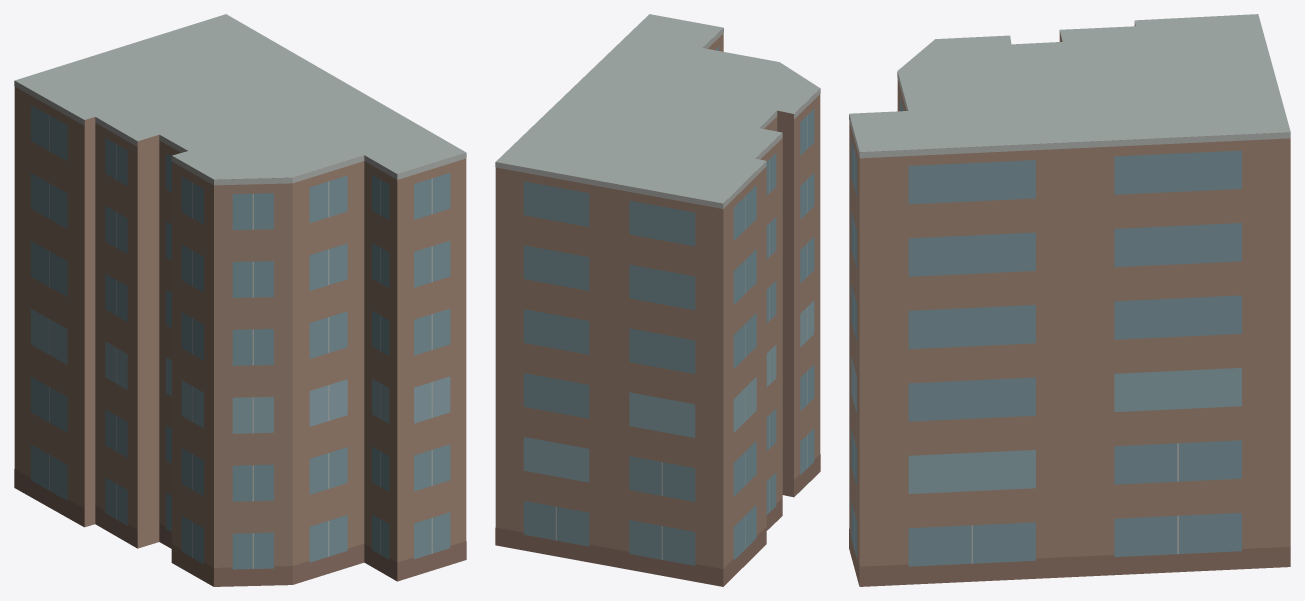
File: survey-upis-32696526.glb
The picture shows the model from 3 angles, left to right: view 1: azimuth 30°, elevation 25°; view 2: azimuth 150°, elevation 25°; view 3: azimuth 270°, elevation 25°; orthographic projection. The views are drawn at different scales.
Parts seen in each view (by area): view 1: survey-upis-32696526.tmp; view 2: survey-upis-32696526.tmp; view 3: survey-upis-32696526.tmp.
Part boxes in pixels (left/top/right/bottom): survey-upis-32696526.tmp: left=14, top=14, right=466, bottom=586; survey-upis-32696526.tmp: left=495, top=14, right=820, bottom=586; survey-upis-32696526.tmp: left=849, top=14, right=1290, bottom=586.
Size of the model in its own units: 11.66 by 17.1 by 15.76.
